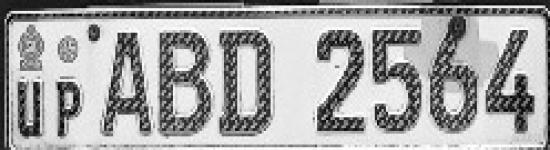2: (306, 21, 370, 138)
4: (482, 20, 541, 139)
5: (368, 22, 427, 138)
6: (426, 21, 482, 138)
A: (95, 26, 155, 138)
B: (155, 24, 217, 140)
D: (217, 23, 280, 140)
P: (48, 72, 87, 143)
U: (14, 74, 50, 144)
